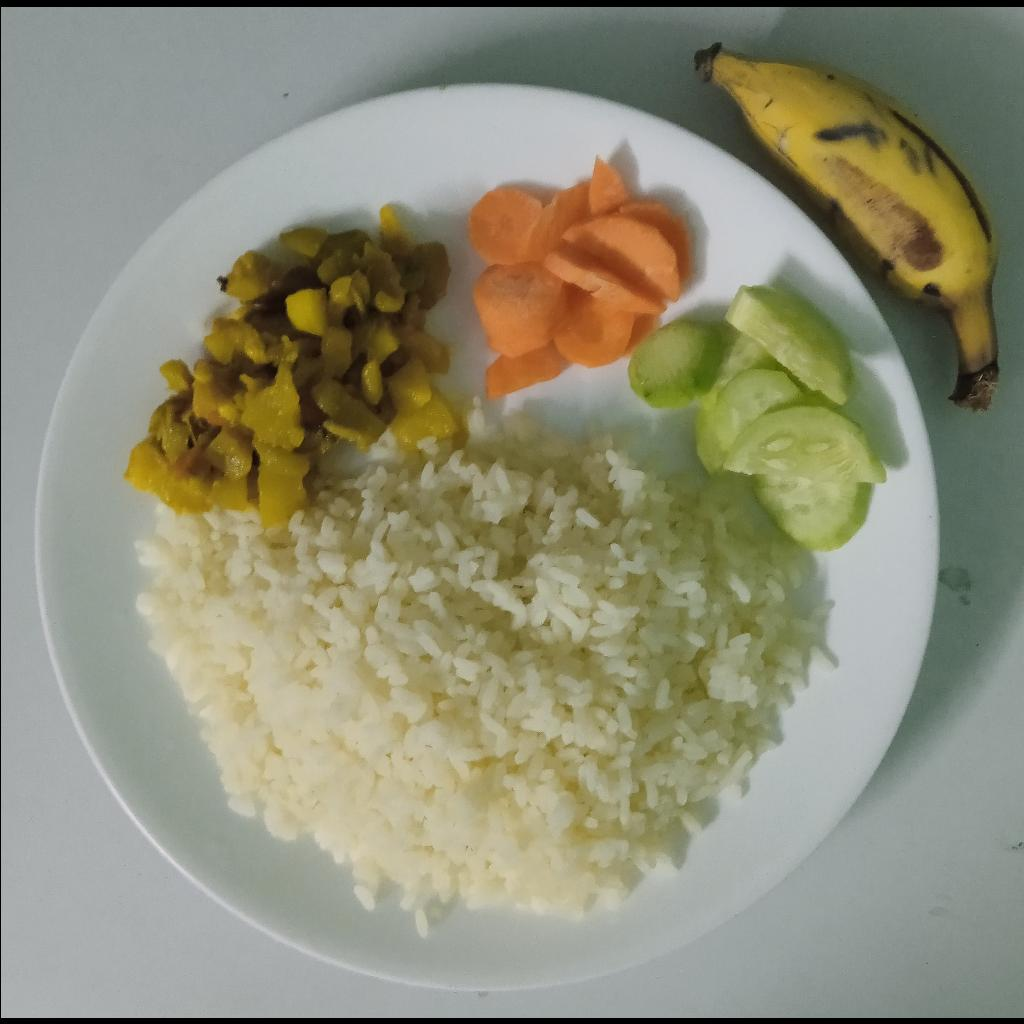banana: (696, 47, 1003, 409)
carrot: (466, 153, 694, 403)
cucumber: (631, 283, 890, 549)
kumra-vaji: (122, 202, 458, 531)
rice: (123, 398, 843, 940)
